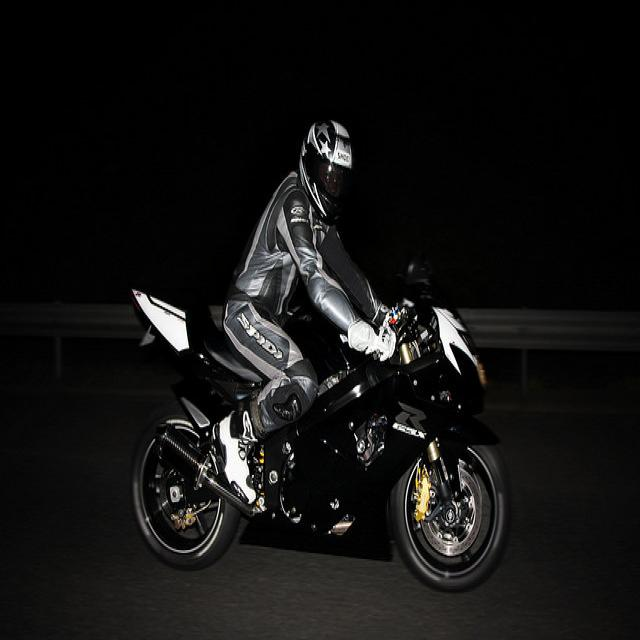Motorbike: (135, 257, 522, 618)
